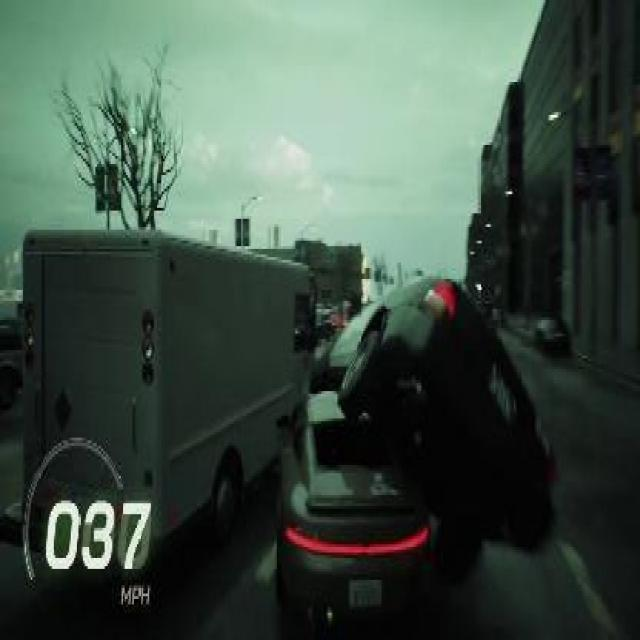accident: (266, 254, 562, 640)
